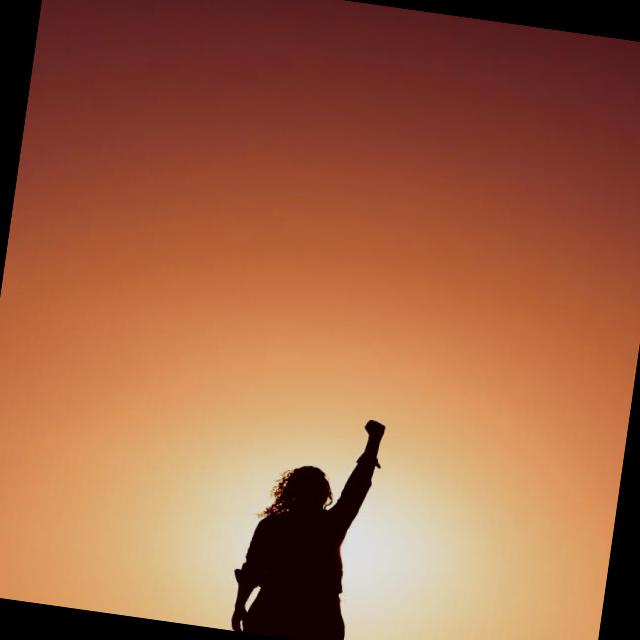person: (227, 403, 388, 640)
